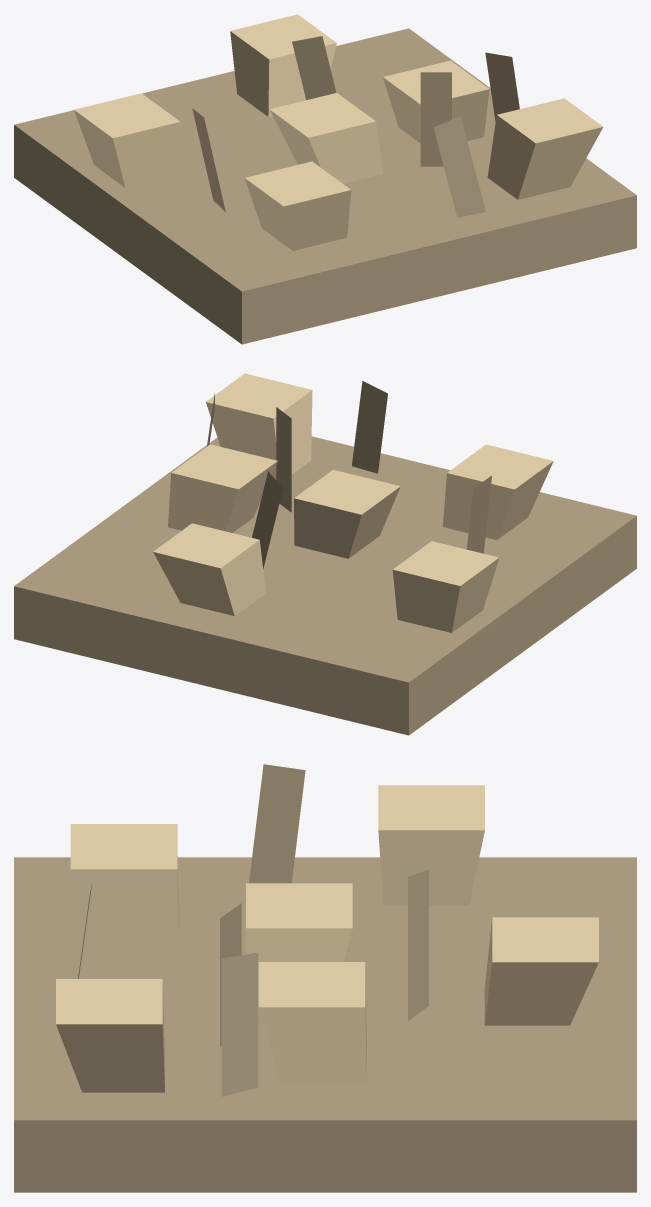
Rendered from Trigo4.fbx.
The picture shows the model from 3 angles, top to bottom: view 1: azimuth 30°, elevation 25°; view 2: azimuth 150°, elevation 25°; view 3: azimuth 270°, elevation 25°; orthographic projection. The views are drawn at different scales.
Visible parts, largest first — view 1: Cube.008; view 2: Cube.008; view 3: Cube.008.
Part boxes in pixels (x1,y1,x2,y2): Cube.008: (14,14,636,344); Cube.008: (14,373,636,735); Cube.008: (14,764,636,1192).
Size of the model in its own units: 813 by 295 by 813.
